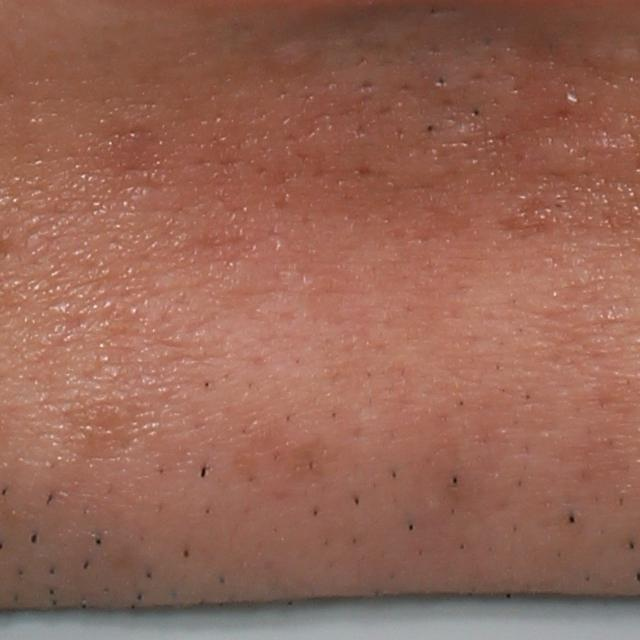hypertrophic_scar: (527, 130, 598, 180), (264, 36, 315, 73)
